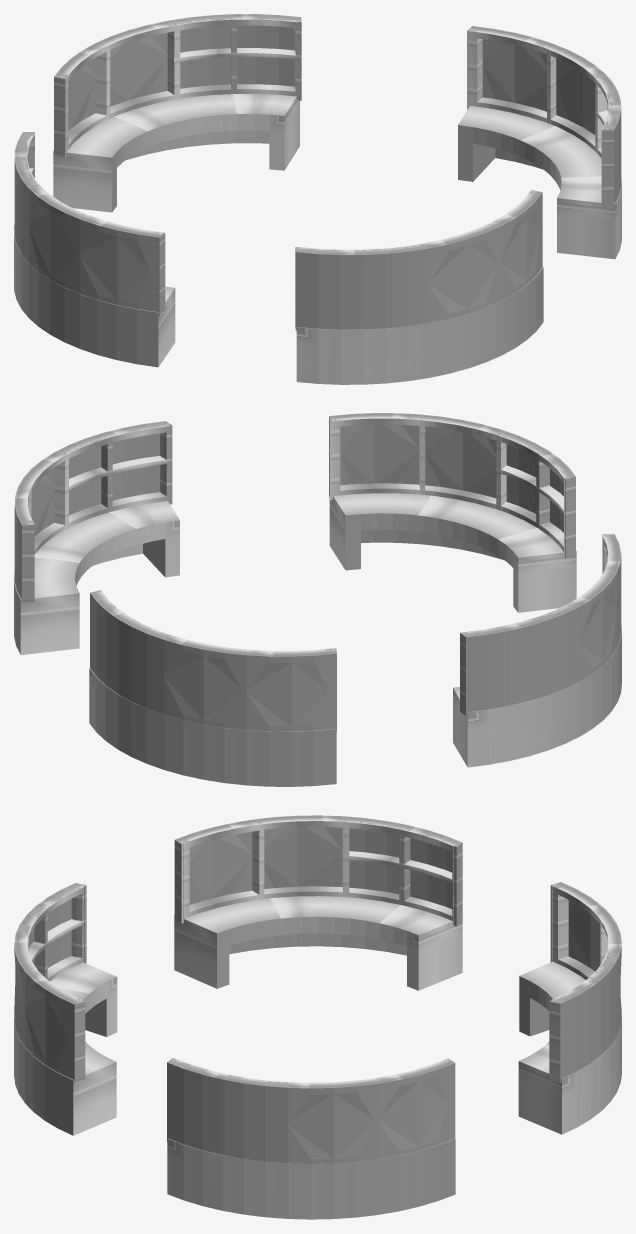
Rendered from paneles_control.fbx.
3 renders of one model, top to bottom at view 1: azimuth 30°, elevation 25°; view 2: azimuth 150°, elevation 25°; view 3: azimuth 270°, elevation 25°, orthographic.
Visible parts, largest first — view 1: consola2, panel4, panel3, consola1; view 2: panel4, consola2, panel3, consola1; view 3: consola1, panel3, panel4, consola2.
Boxes of the visible parts, x1,y1,x2,y2 form: consola2: [53, 14, 301, 212]; panel4: [295, 190, 543, 384]; panel3: [458, 26, 621, 259]; consola1: [14, 132, 175, 367]; panel4: [329, 413, 576, 612]; consola2: [89, 590, 336, 786]; panel3: [14, 421, 179, 654]; consola1: [453, 534, 621, 767]; consola1: [174, 815, 462, 990]; panel3: [167, 1058, 455, 1219]; panel4: [14, 883, 117, 1135]; consola2: [518, 882, 621, 1134].
Bounding box in the file's own units: 2265 × 507 × 2130.
8 materials, 8 textured.
